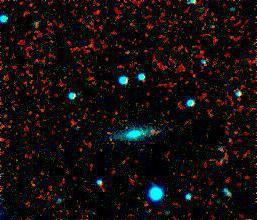star: (111, 112, 141, 142)
